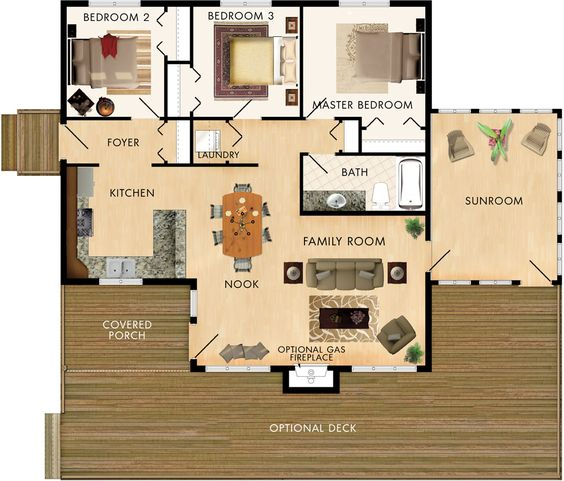wall: (424, 108, 431, 238), (300, 211, 430, 216), (60, 162, 65, 285), (60, 1, 65, 123), (425, 273, 431, 371), (426, 1, 431, 112), (299, 1, 303, 119), (141, 1, 219, 6), (271, 1, 337, 6), (151, 163, 259, 166), (143, 278, 196, 284), (283, 387, 337, 392), (359, 152, 425, 156), (188, 109, 192, 166), (160, 116, 233, 119), (391, 1, 432, 6), (189, 1, 192, 68), (64, 117, 131, 120), (299, 151, 302, 217), (163, 55, 166, 119), (282, 366, 289, 393), (61, 279, 98, 284), (262, 116, 302, 120), (60, 163, 100, 167), (357, 117, 361, 155), (61, 1, 89, 6), (270, 365, 288, 372), (327, 366, 352, 371), (164, 60, 191, 64), (556, 190, 563, 202), (335, 117, 360, 120), (336, 153, 361, 156), (190, 359, 196, 371), (191, 366, 205, 371), (417, 366, 431, 371), (556, 233, 562, 242), (556, 107, 562, 116), (470, 107, 479, 113), (470, 279, 478, 285), (511, 109, 521, 113), (420, 126, 430, 130), (358, 126, 367, 130), (557, 276, 562, 283)
